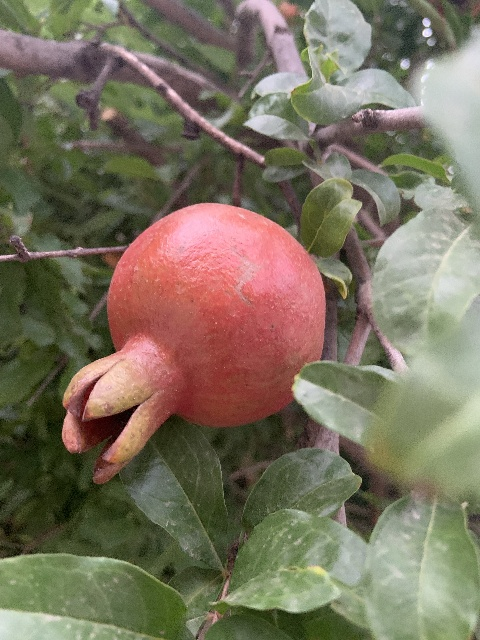bud: (279, 1, 299, 20)
ripe: (60, 201, 326, 484)
